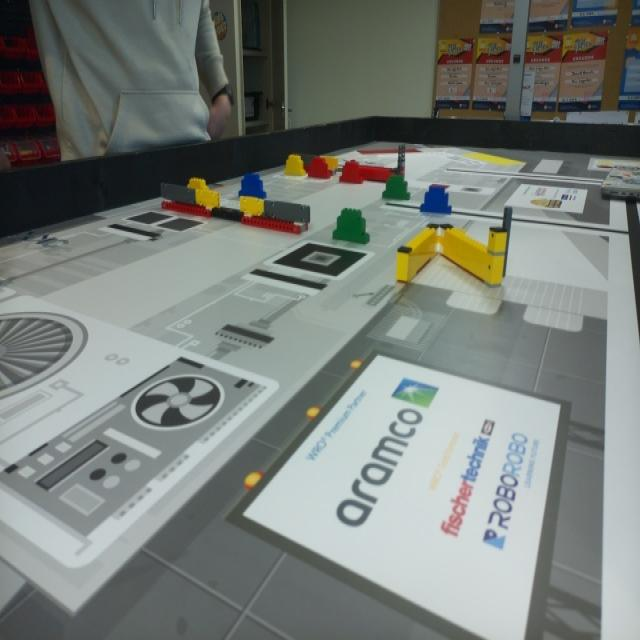blau: (422, 183, 450, 213), (236, 174, 266, 198)
gruen: (333, 208, 369, 245), (384, 175, 409, 202)
rot: (340, 162, 363, 184), (308, 158, 330, 179)
yellow: (284, 158, 304, 177), (184, 177, 207, 190)
